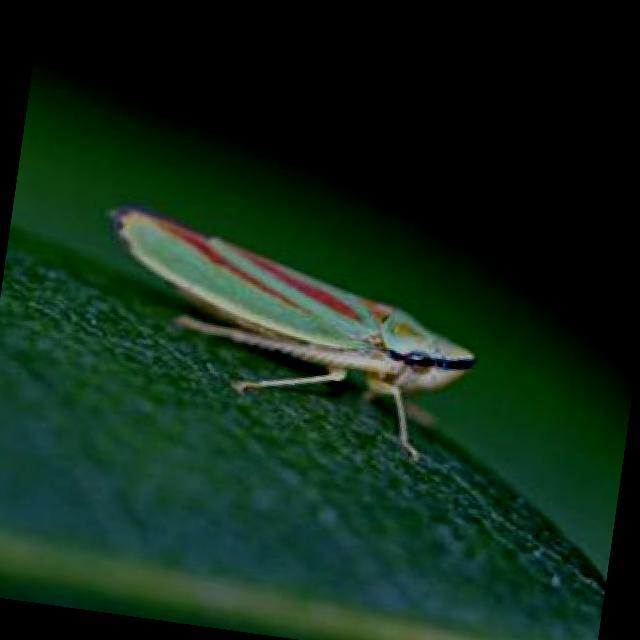green leaf hopper: (111, 208, 474, 458)
